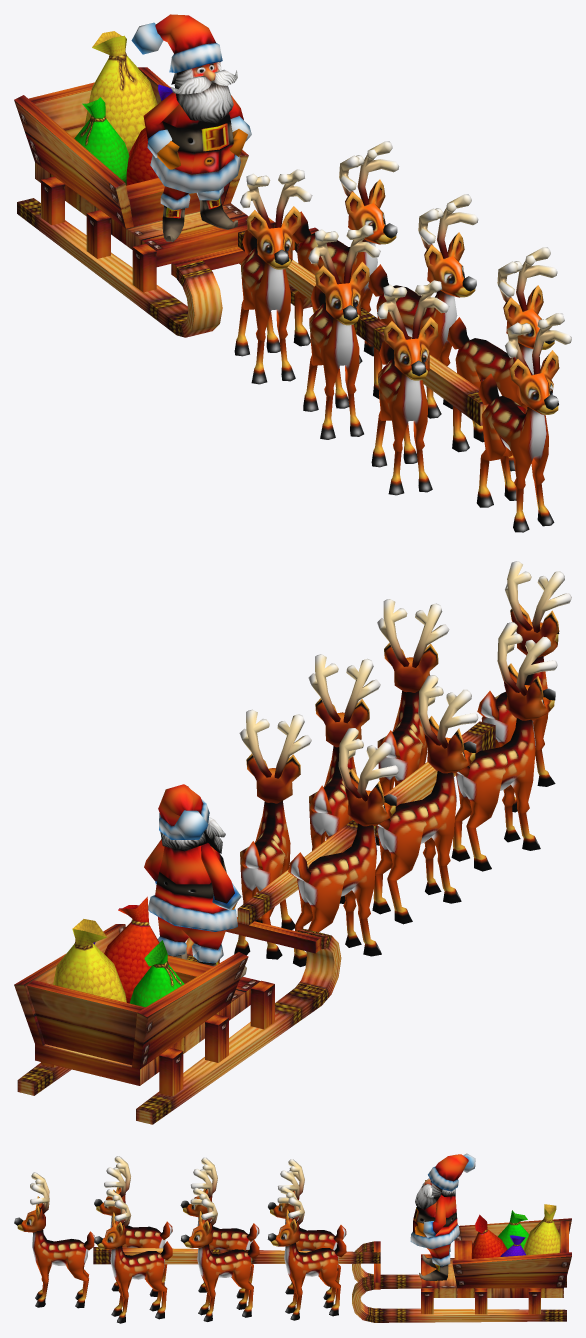
The model's file is Object_Sleigh.FBX.
3 views of the same model, one above another, from view 1: azimuth 30°, elevation 25°; view 2: azimuth 150°, elevation 25°; view 3: azimuth 270°, elevation 25° (orthographic). The views are drawn at different scales.
Visible parts, largest first — view 1: Deers, Sleigh, Santa, Bags; view 2: Deers, Sleigh, Santa, Bags; view 3: Deers, Sleigh, Santa, Bags.
Part boxes in pixels (x1,y1,x2,y2): Deers: (234, 141, 571, 532); Sleigh: (14, 67, 487, 425); Santa: (131, 14, 251, 241); Bags: (74, 31, 172, 185); Deers: (234, 561, 571, 966); Sleigh: (14, 721, 495, 1124); Santa: (144, 784, 246, 978); Bags: (53, 896, 184, 1007); Deers: (14, 1156, 346, 1323); Sleigh: (93, 1218, 571, 1322); Santa: (410, 1153, 475, 1280); Bags: (471, 1204, 560, 1258).
Size of the model in its own units: 67.02 by 89.31 by 308.
